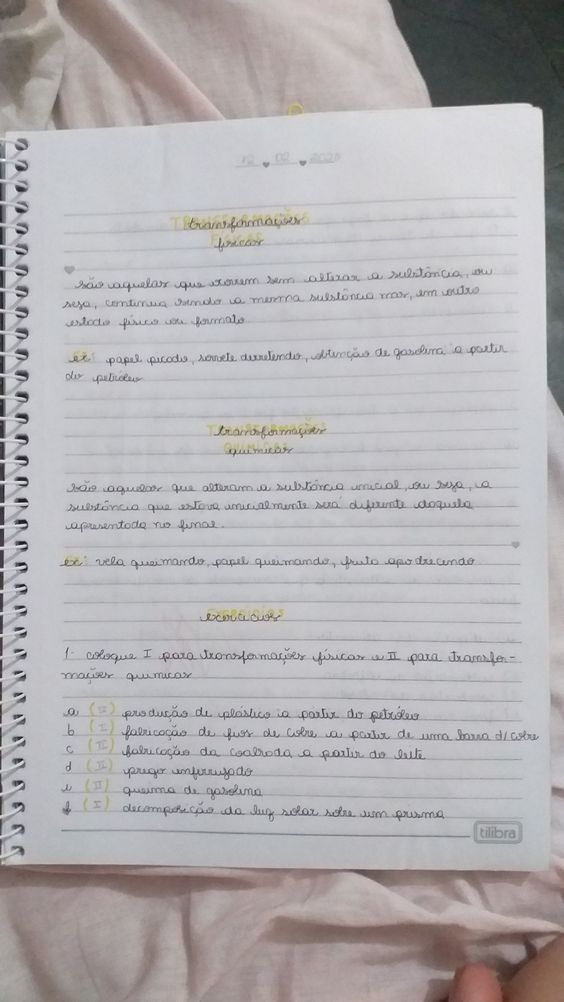page: (38, 134, 540, 862)
